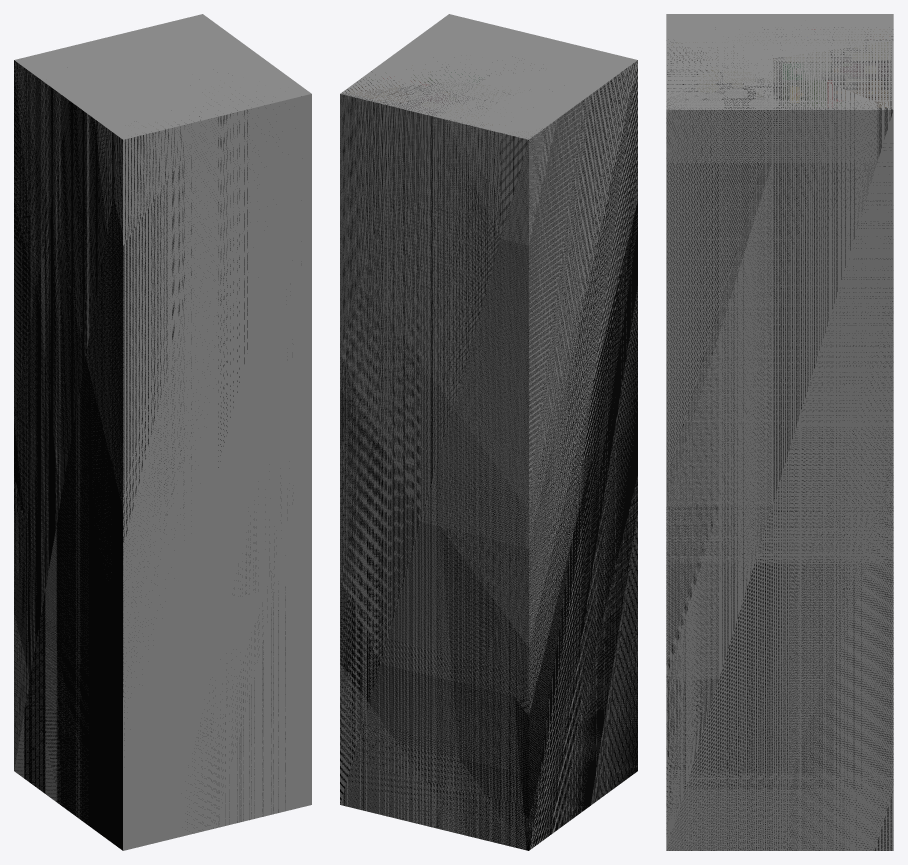
Rendered from bottle_02.FBX.
3 renders of one model, left to right at view 1: azimuth 30°, elevation 25°; view 2: azimuth 150°, elevation 25°; view 3: azimuth 270°, elevation 25°, orthographic. The views are drawn at different scales.
Visible parts, largest first — view 1: bounds, colbox-1; view 2: bounds, colbox-1; view 3: bounds, colbox-1.
Boxes of the visible parts, x1,y1,x2,y2 form: bounds: [14, 14, 311, 850]; colbox-1: [14, 60, 285, 850]; bounds: [340, 14, 637, 850]; colbox-1: [340, 60, 637, 850]; bounds: [666, 14, 893, 850]; colbox-1: [666, 27, 893, 850].
Size of the model in its own units: 15.81 by 56.93 by 15.83.
